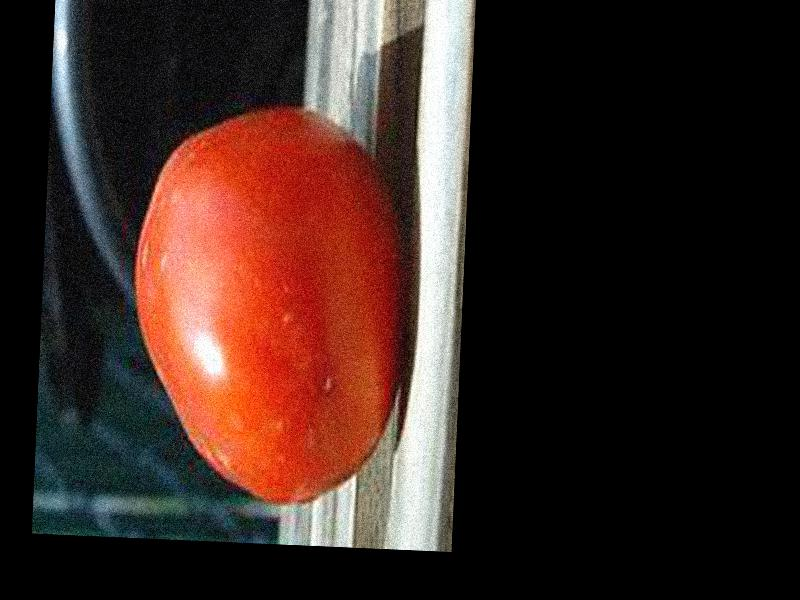Tomato: (125, 103, 411, 510)
